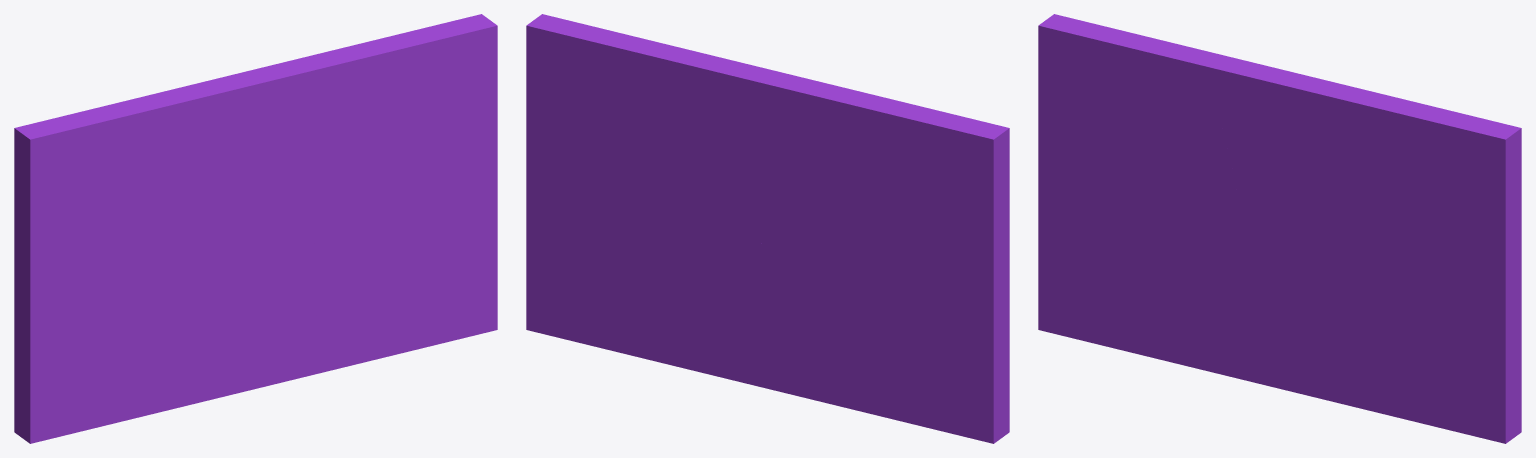
The model's file is Barrier_32_chunks.fbx.
The picture shows the model from 3 angles, left to right: view 1: azimuth 30°, elevation 25°; view 2: azimuth 150°, elevation 25°; view 3: azimuth 330°, elevation 25°; orthographic projection.
Visible parts, largest first — view 1: Barrier_32_2, Barrier_32_1, Barrier_32_4, Barrier_32_3, Barrier_32_0, Barrier_32_5, Barrier_32_6; view 2: Barrier_32_2, Barrier_32_1, Barrier_32_3, Barrier_32_4, Barrier_32_6, Barrier_32_5, Barrier_32_0; view 3: Barrier_32_1, Barrier_32_2, Barrier_32_4, Barrier_32_3, Barrier_32_0, Barrier_32_5, Barrier_32_6.
Part boxes in pixels (left/top/right/bottom): Barrier_32_2: left=14, top=75, right=240, bottom=443; Barrier_32_1: left=232, top=14, right=497, bottom=293; Barrier_32_4: left=310, top=266, right=497, bottom=374; Barrier_32_3: left=69, top=322, right=312, bottom=434; Barrier_32_0: left=201, top=76, right=287, bottom=251; Barrier_32_5: left=157, top=235, right=337, bottom=341; Barrier_32_6: left=336, top=249, right=395, bottom=288; Barrier_32_2: left=759, top=85, right=1009, bottom=443; Barrier_32_1: left=526, top=14, right=777, bottom=304; Barrier_32_3: left=690, top=296, right=936, bottom=429; Barrier_32_4: left=526, top=285, right=691, bottom=369; Barrier_32_6: left=600, top=251, right=722, bottom=320; Barrier_32_5: left=721, top=241, right=822, bottom=308; Barrier_32_0: left=753, top=65, right=837, bottom=86; Barrier_32_1: left=1270, top=67, right=1521, bottom=407; Barrier_32_2: left=1038, top=14, right=1271, bottom=339; Barrier_32_4: left=1319, top=324, right=1521, bottom=443; Barrier_32_3: left=1077, top=289, right=1320, bottom=398; Barrier_32_0: left=1209, top=67, right=1295, bottom=245; Barrier_32_5: left=1165, top=241, right=1345, bottom=344; Barrier_32_6: left=1344, top=286, right=1403, bottom=330.
Bounding box in the file's own units: 462 × 288 × 27.2.
